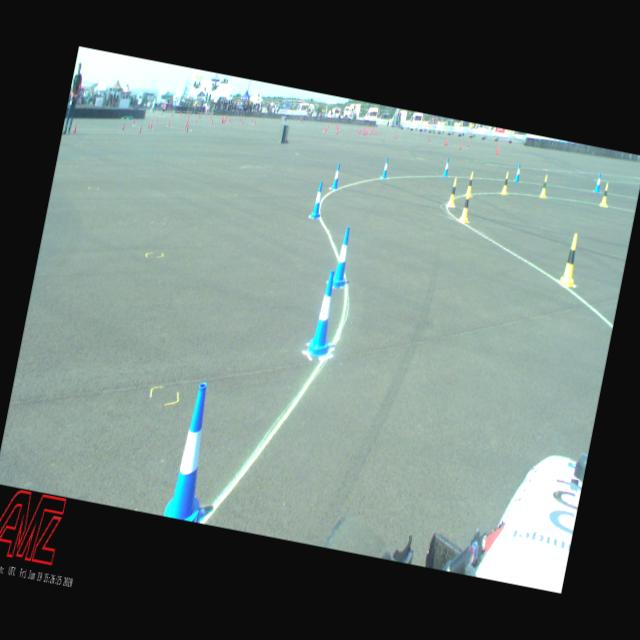blue_cone: (163, 381, 229, 524), (306, 269, 344, 358), (332, 227, 356, 290), (311, 181, 326, 219), (331, 163, 342, 190), (382, 157, 391, 179), (594, 172, 602, 194), (443, 158, 451, 178), (514, 163, 522, 182)
unknown_cone: (74, 122, 78, 133), (138, 124, 142, 134), (496, 144, 500, 153), (459, 141, 463, 150), (146, 120, 150, 128), (132, 118, 136, 126), (150, 122, 154, 130), (122, 121, 125, 130), (496, 146, 499, 155), (186, 123, 189, 132), (186, 116, 189, 125), (444, 138, 447, 146), (185, 122, 188, 130), (155, 116, 158, 124), (394, 132, 397, 139), (168, 119, 171, 126), (428, 135, 431, 142), (446, 138, 448, 146), (468, 140, 470, 147)
yellow_cone: (559, 232, 583, 288), (458, 188, 474, 224), (446, 176, 461, 207), (464, 172, 476, 197), (540, 174, 550, 198), (600, 182, 610, 206), (501, 172, 511, 196)
